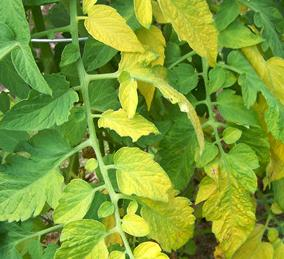Tomato leaf yellow virus: (194, 148, 263, 259), (112, 138, 178, 218), (241, 42, 284, 155), (139, 0, 219, 59), (0, 161, 62, 237), (85, 0, 145, 63)
